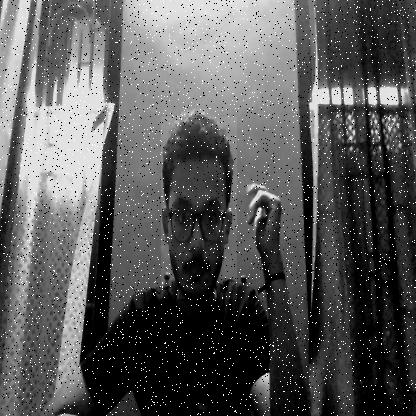Normal: (160, 118, 236, 300)
